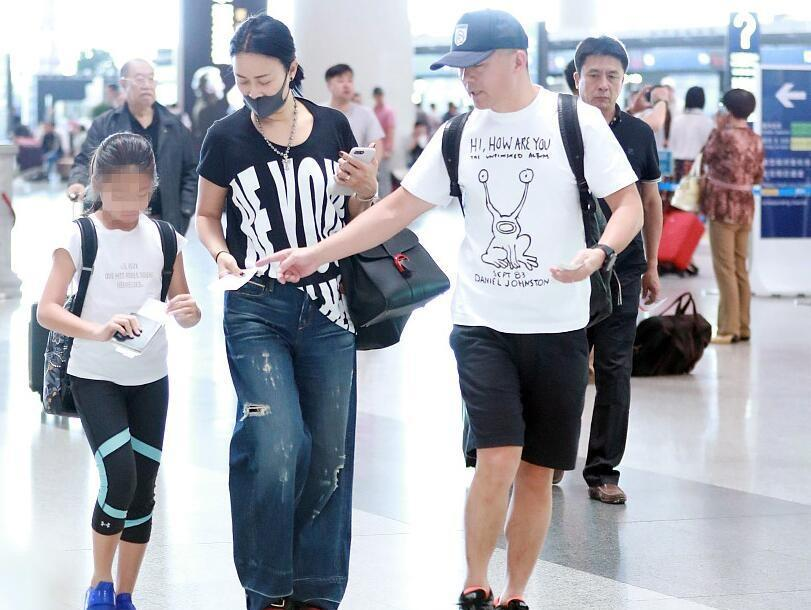NONE: (456, 53, 516, 109), (582, 61, 624, 107), (128, 71, 159, 104), (336, 72, 357, 103)
WRONG: (235, 61, 289, 115)
